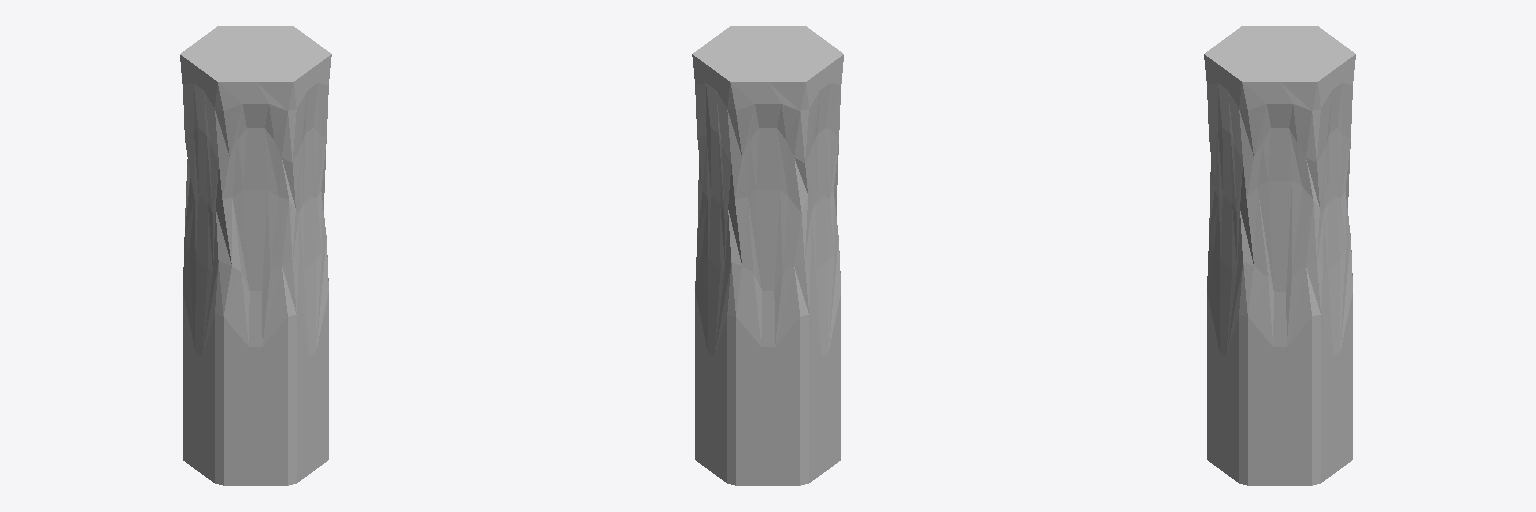
File: Soil_Base.obj
3 views of the same model, side by side, from view 1: azimuth 30°, elevation 25°; view 2: azimuth 150°, elevation 25°; view 3: azimuth 270°, elevation 25° (orthographic).
Visible parts, largest first — view 1: Cylinder.005; view 2: Cylinder.005; view 3: Cylinder.005.
Boxes of the visible parts, <box> form: Cylinder.005: <box>180,26,331,485</box>; Cylinder.005: <box>692,26,843,485</box>; Cylinder.005: <box>1204,26,1355,485</box>.
Bounding box in the file's own units: 1.74 × 5.86 × 2.